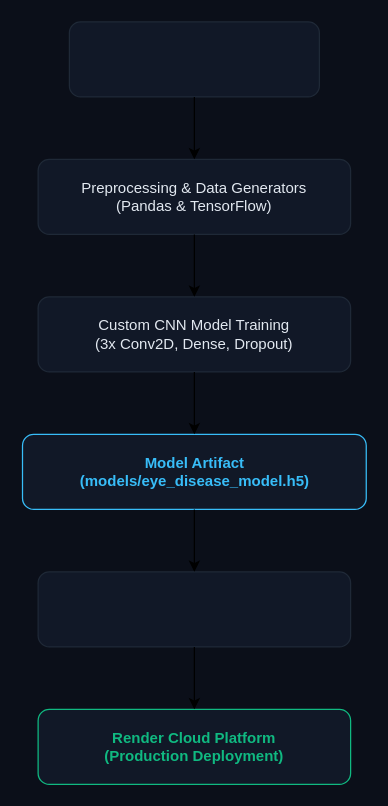
The diagram is 388 pixels wide and 806 high, and some of its shapes have lost their labels. The box of each missing label's shape, as (x1, y1, x2, y2) in pixels:
Kaggle Dataset (Fondo de Ojo): (68, 21, 319, 97)
Streamlit UI & Inference Engine (app.py with Cyber-Dark Theme): (37, 571, 351, 647)
